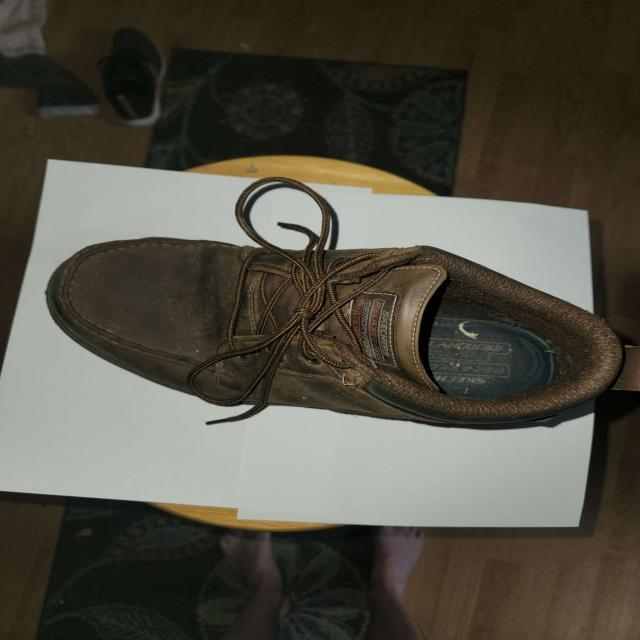shoe: (41, 233, 628, 432)
